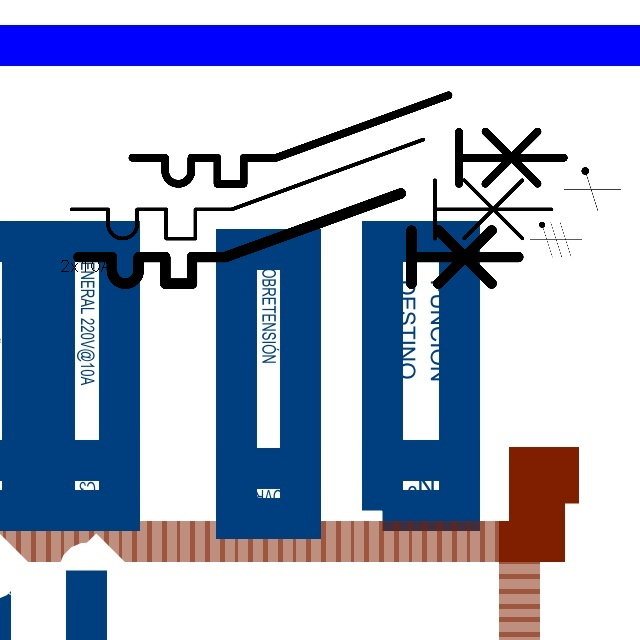interruptor_termomagnetico: (59, 127, 564, 251), (67, 182, 530, 295), (121, 84, 575, 195)
